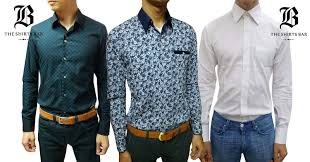F_shirt: (197, 5, 292, 142)
